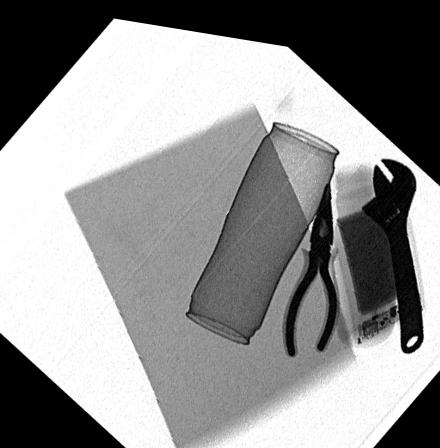Pliers: (283, 168, 340, 348)
Powerbank: (331, 186, 425, 331)
Wrench: (360, 145, 425, 341)
